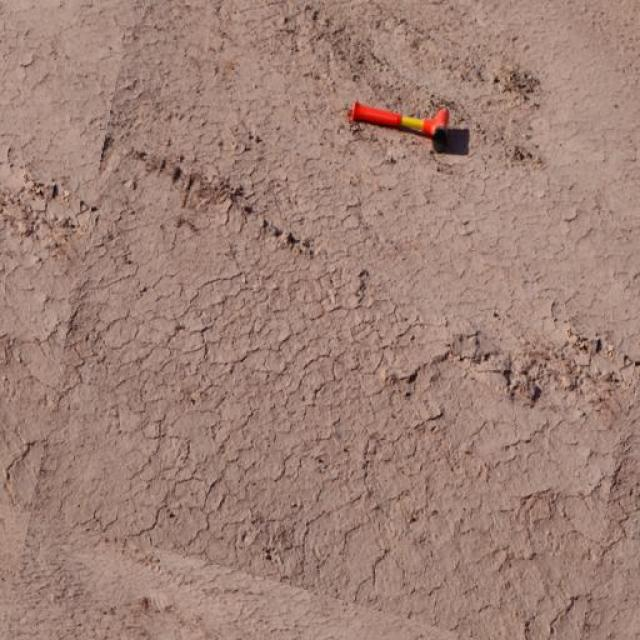mallet: (347, 99, 455, 152)
